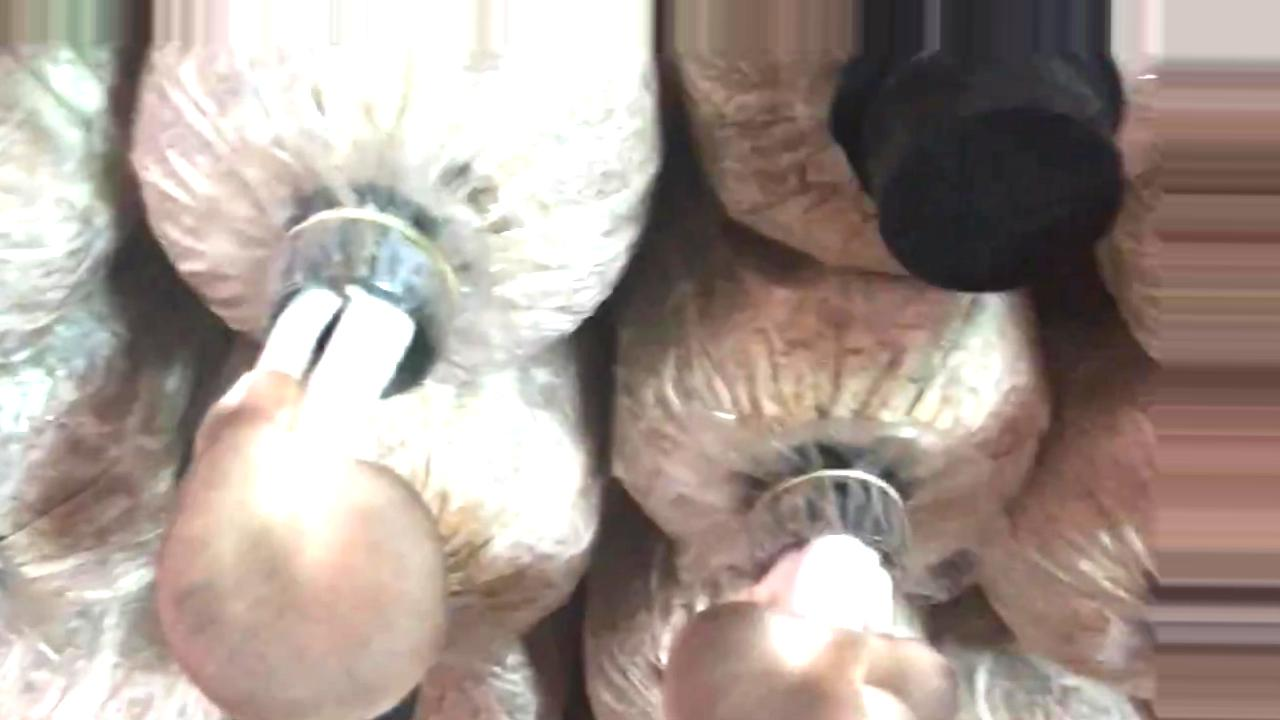nam: (159, 213, 450, 720), (670, 472, 955, 720)
